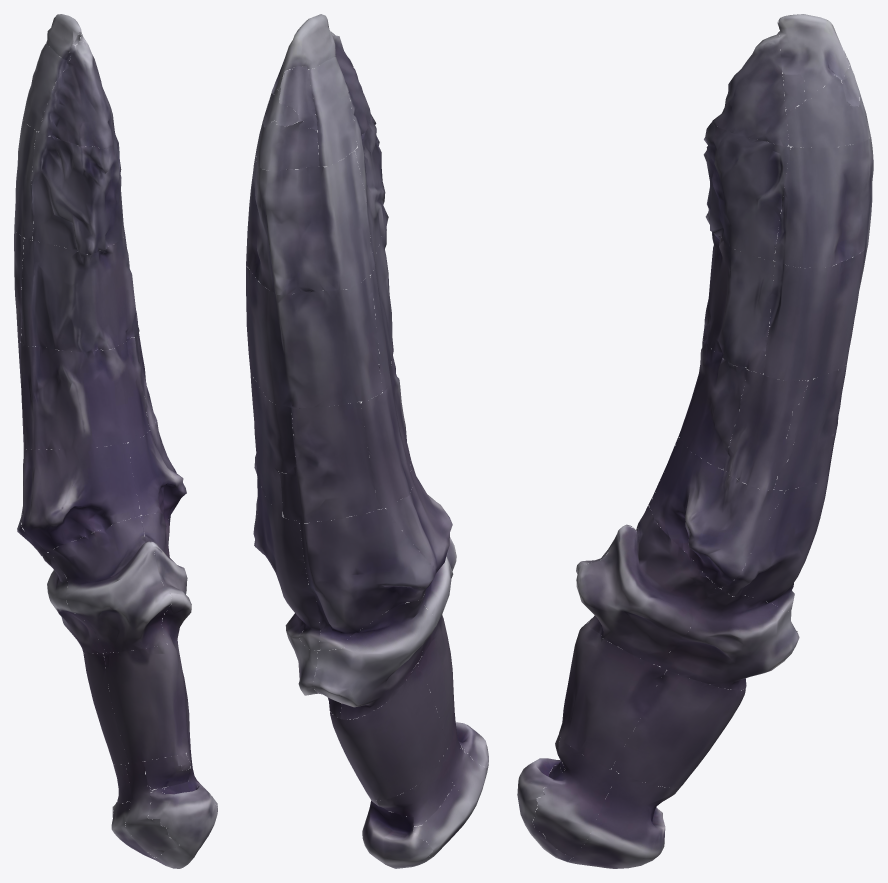
File: dagger4.glb
3 views of the same model, side by side, from view 1: azimuth 30°, elevation 25°; view 2: azimuth 150°, elevation 25°; view 3: azimuth 270°, elevation 25° (orthographic). The views are drawn at different scales.
Visible parts, largest first — view 1: dagger4; view 2: dagger4; view 3: dagger4.
Boxes of the visible parts, x1,y1,x2,y2 form: dagger4: [14, 14, 217, 868]; dagger4: [246, 14, 488, 868]; dagger4: [517, 14, 873, 868].
Bounding box in the file's own units: 0.2069 × 1 × 0.378.
1 material, 1 textured.
